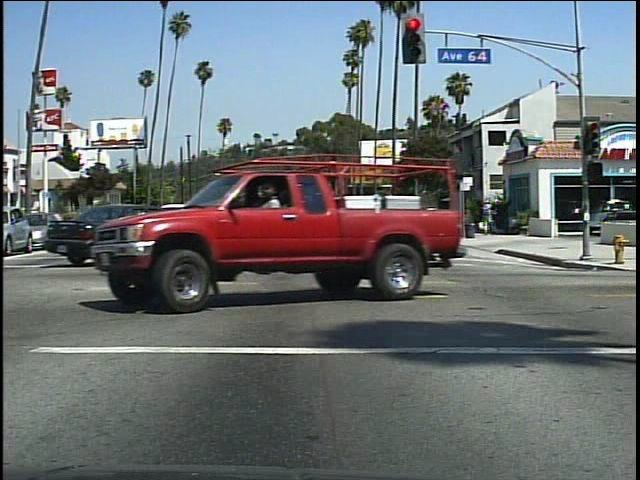person: (256, 176, 297, 298), (481, 200, 495, 236)
